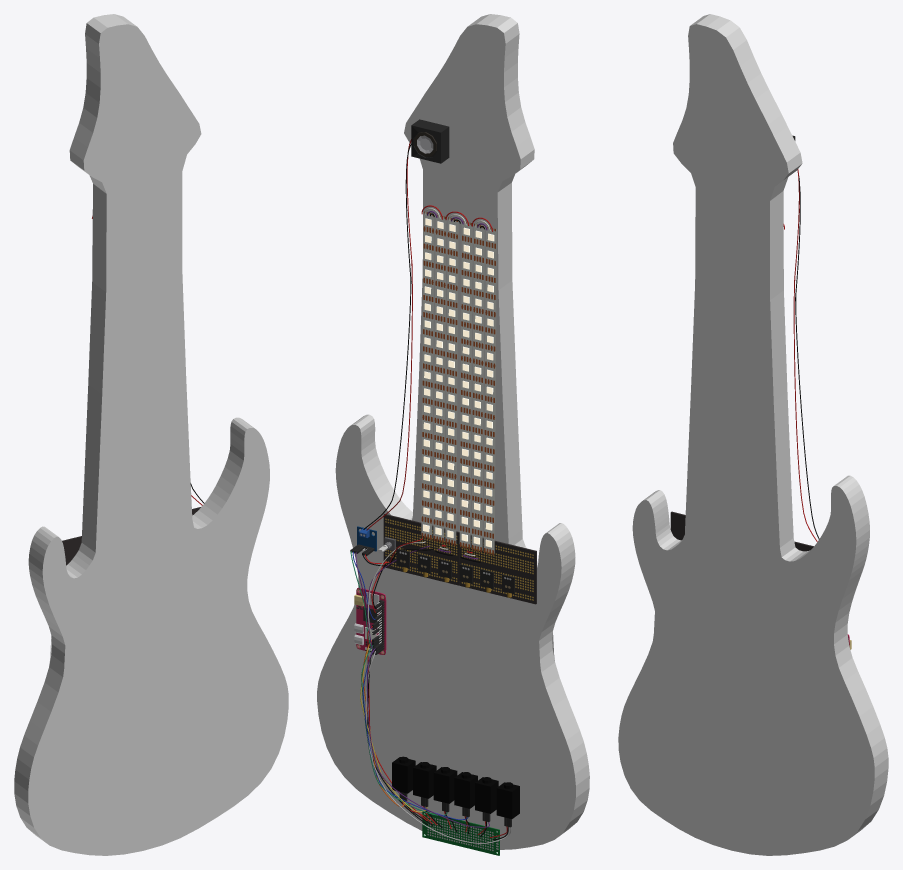
File: guitar-for-export.glb
The picture shows the model from 3 angles, left to right: view 1: azimuth 30°, elevation 25°; view 2: azimuth 150°, elevation 25°; view 3: azimuth 330°, elevation 25°; orthographic projection.
Visible parts, largest first — view 1: GUITAR-BASE; view 2: GUITAR-BASE, LED-BASE, COPPER, Plane.031, Plane.032, Plane.030, Plane.033, SPEAKER-BASE, LDR_string6, Circle.001, LDR_string3, LDR_string5 (+7 smaller); view 3: GUITAR-BASE, SPEAKER-WIRE2, SPEAKER-WIRE1.
Boxes of the visible parts, box(x1,y1,x2,y2) form: GUITAR-BASE: box(14, 14, 288, 855); GUITAR-BASE: box(317, 14, 589, 849); LED-BASE: box(421, 211, 496, 553); COPPER: box(421, 211, 495, 555); Plane.031: box(460, 535, 536, 604); Plane.032: box(383, 514, 459, 585); Plane.030: box(422, 812, 499, 855); Plane.033: box(396, 548, 514, 593); SPEAKER-BASE: box(411, 119, 449, 163); LDR_string6: box(496, 782, 519, 818); Circle.001: box(427, 816, 493, 850); LDR_string3: box(433, 767, 457, 803); LDR_string5: box(475, 777, 498, 813); GUITAR-BASE: box(618, 14, 888, 855); SPEAKER-WIRE2: box(795, 172, 819, 539); SPEAKER-WIRE1: box(793, 169, 817, 541).
Bounding box in the file's own units: 1.93 × 5.9 × 0.4065.
